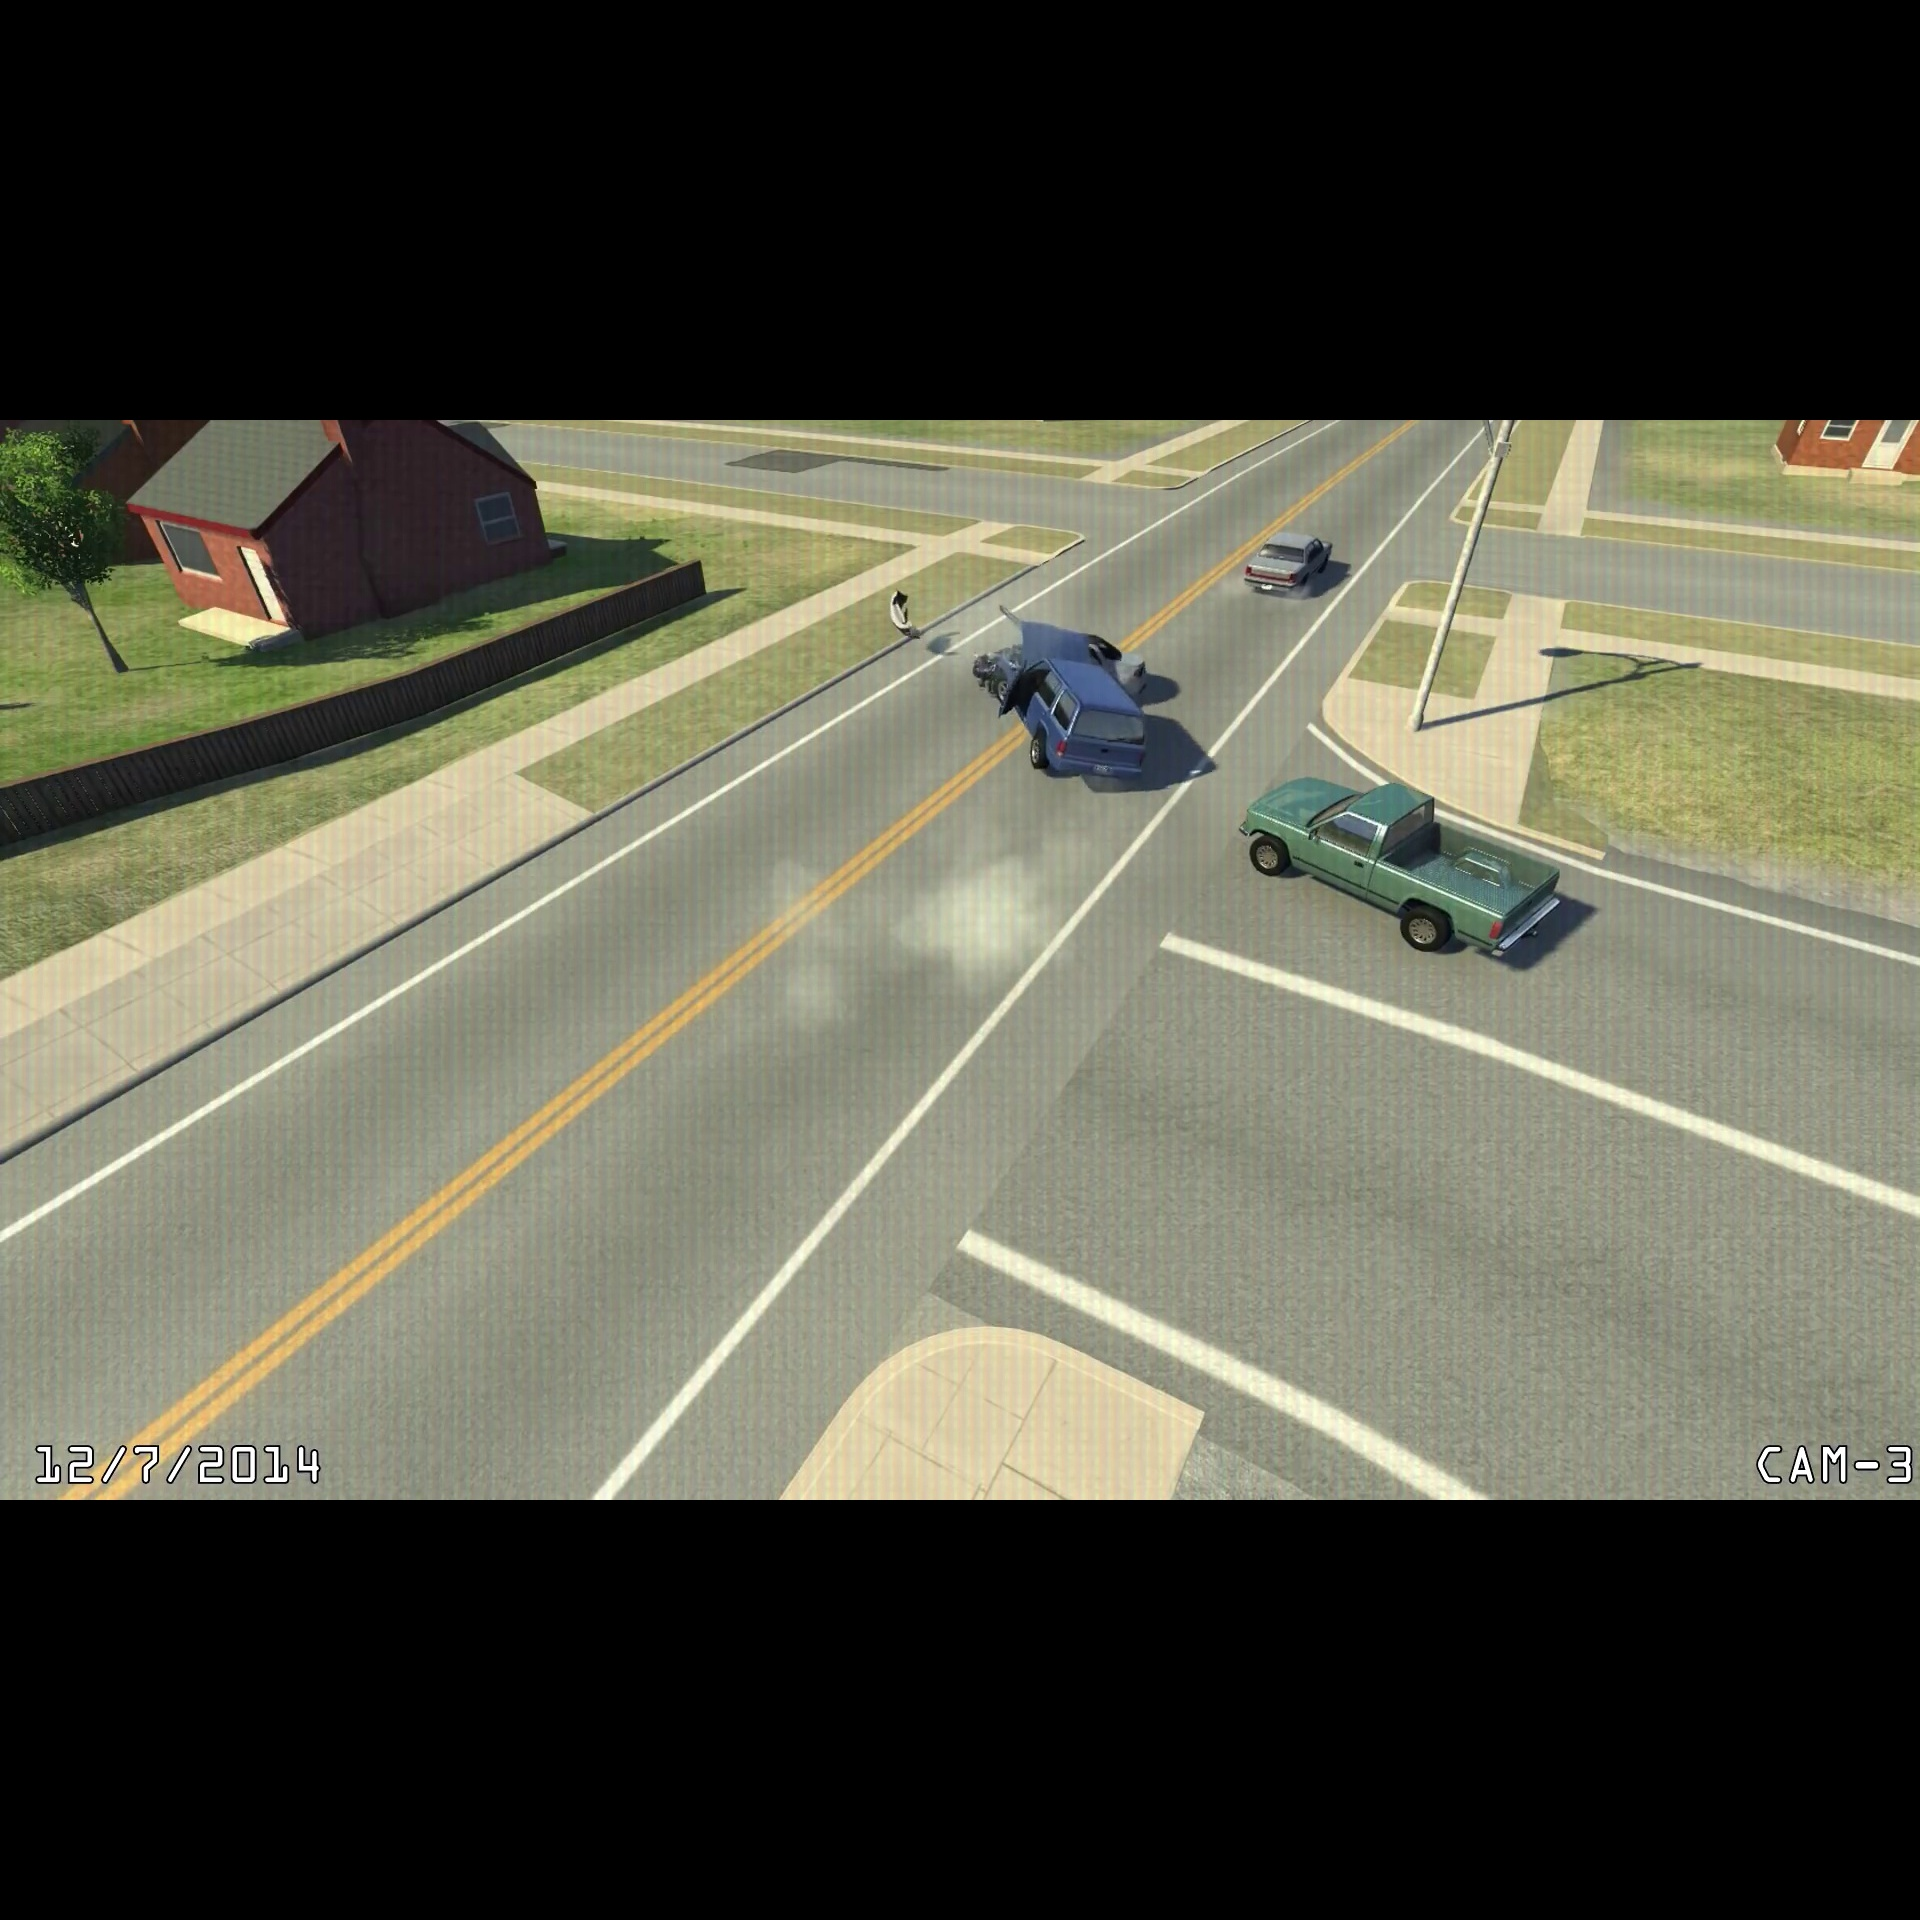vehicle: (1227, 767, 1572, 972), (976, 594, 1153, 798), (971, 619, 1153, 714), (1240, 522, 1342, 610)
